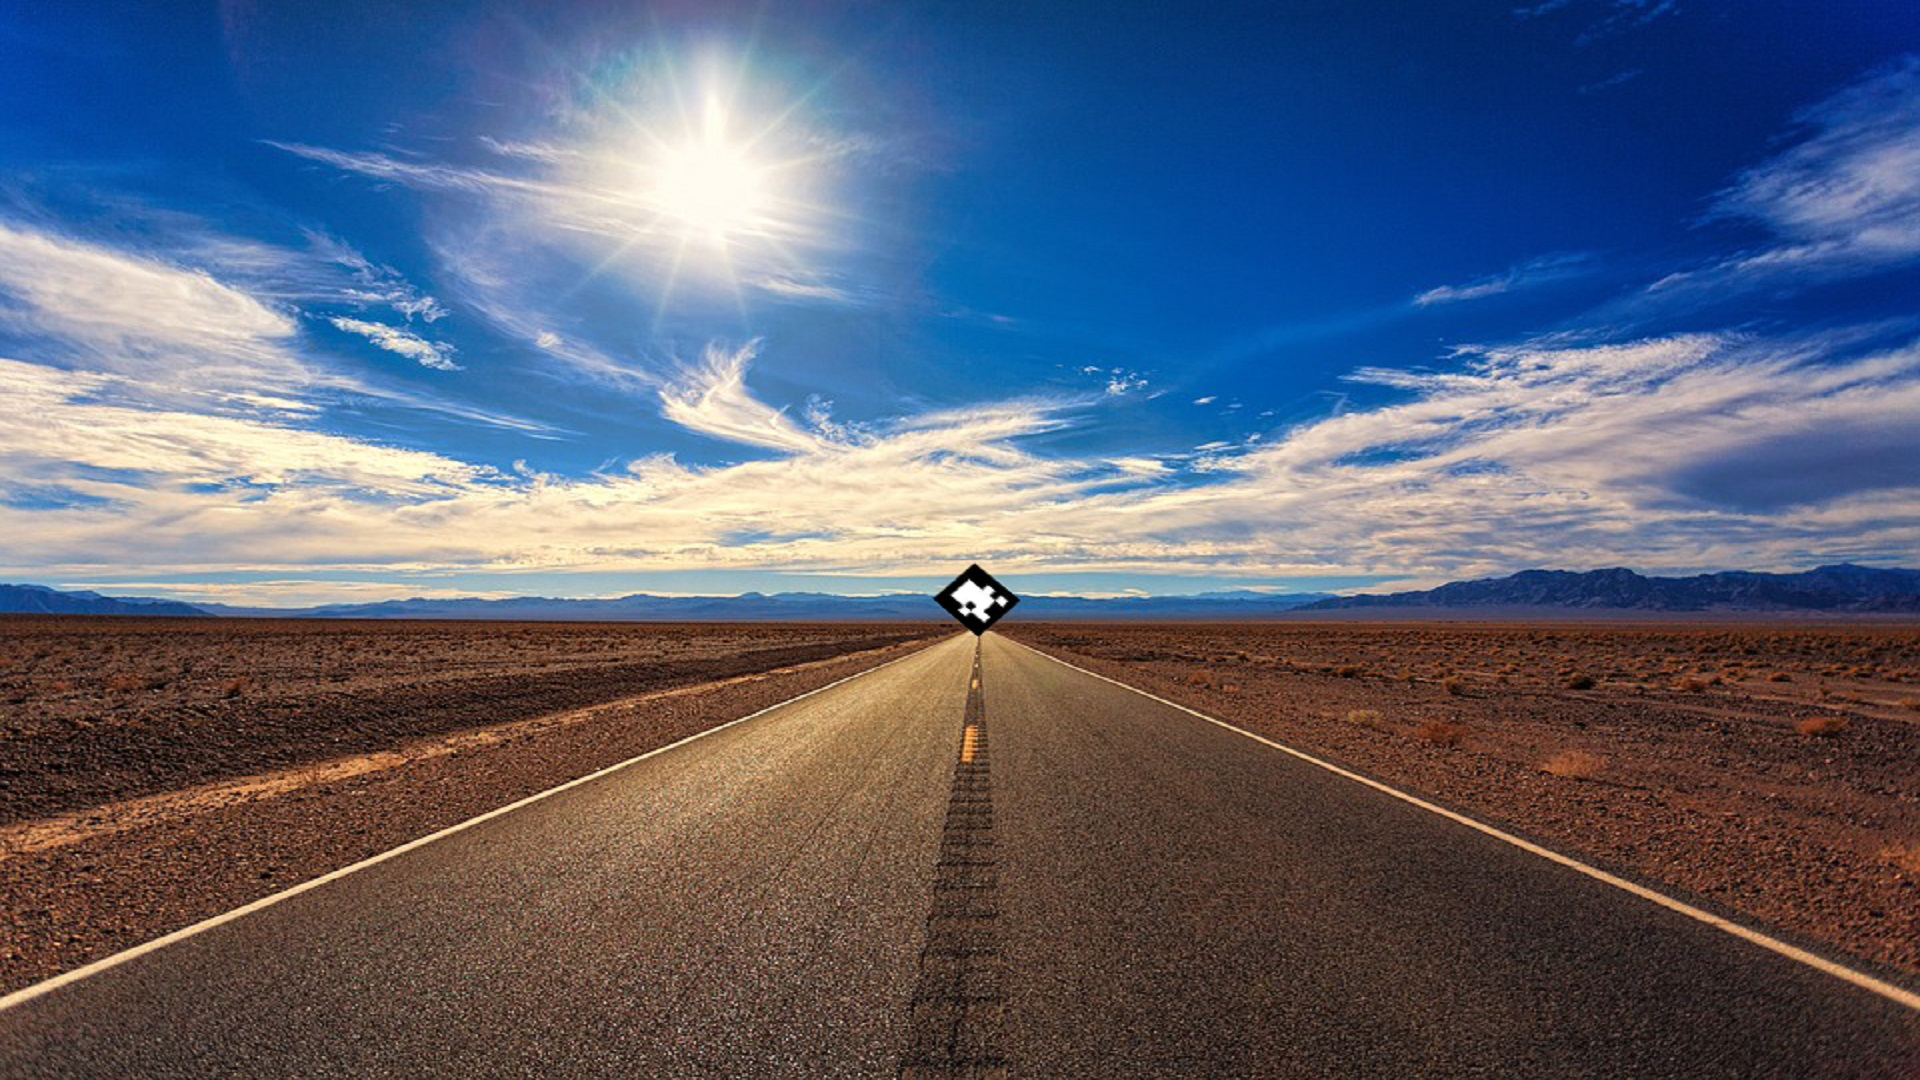marker: (928, 560, 1021, 642)
